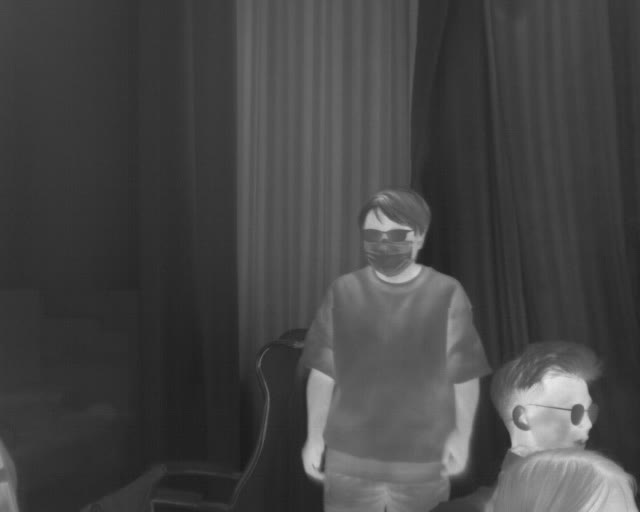face: (358, 187, 430, 278)
